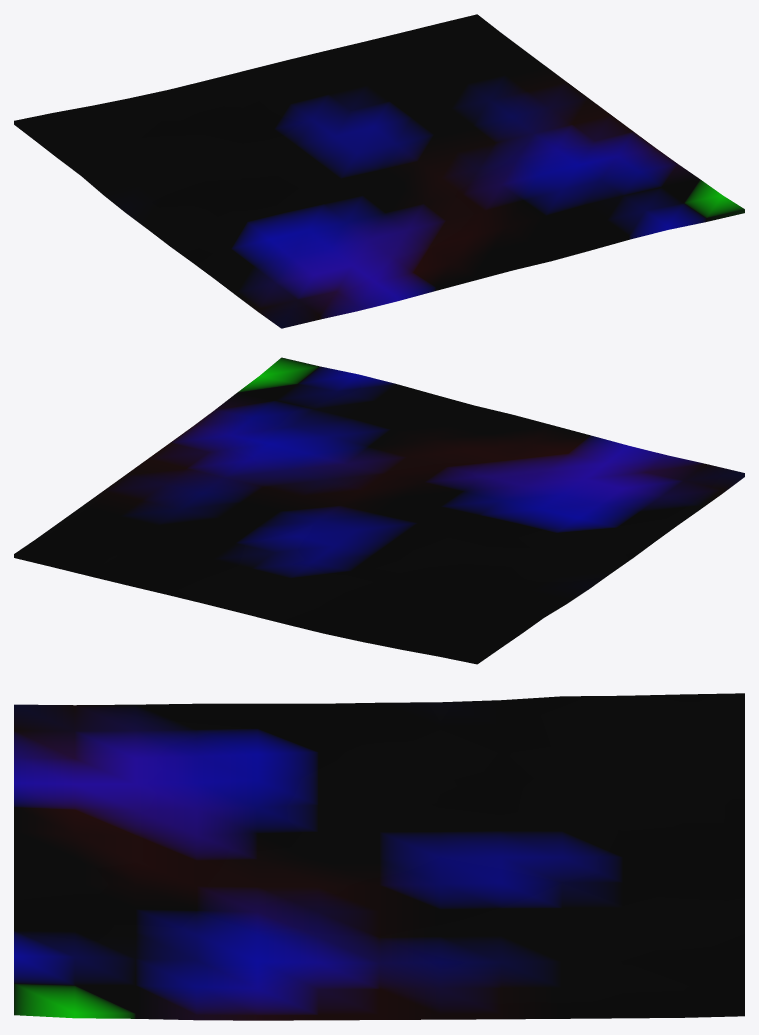
File: coast_1_7.glb
3 renders of one model, top to bottom at view 1: azimuth 30°, elevation 25°; view 2: azimuth 150°, elevation 25°; view 3: azimuth 270°, elevation 25°, orthographic. The views are drawn at different scales.
Parts seen in each view (by area): view 1: terrain; view 2: terrain; view 3: terrain.
Part boxes in pixels (x1,y1,x2,y2): terrain: (14,14,744,328); terrain: (14,357,744,664); terrain: (14,693,744,1020).
Size of the model in its own units: 192 by 5.34 by 192.
